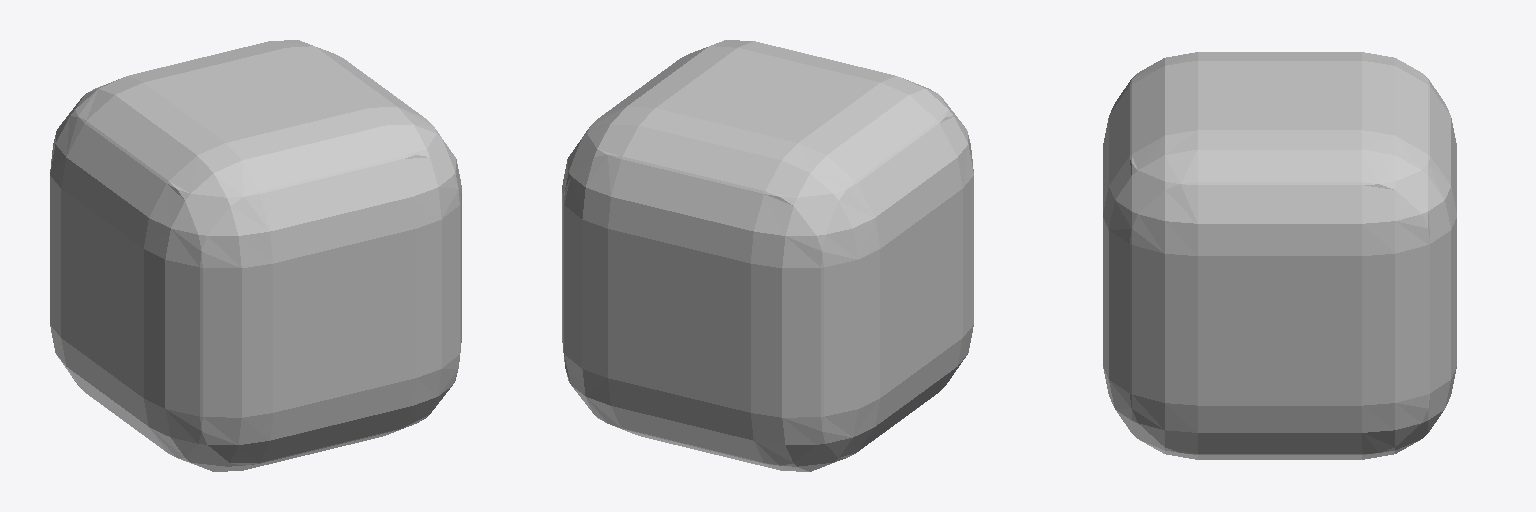
Rendered from cub.obj.
3 views of the same model, side by side, from view 1: azimuth 30°, elevation 25°; view 2: azimuth 150°, elevation 25°; view 3: azimuth 270°, elevation 25° (orthographic).
Parts seen in each view (by area): view 1: Mball; view 2: Mball; view 3: Mball.
Part boxes in pixels (x1,y1,x2,y2): Mball: (50,40,461,471); Mball: (562,40,973,471); Mball: (1103,52,1456,459).
Size of the model in its own units: 4.14 by 4.14 by 4.14.